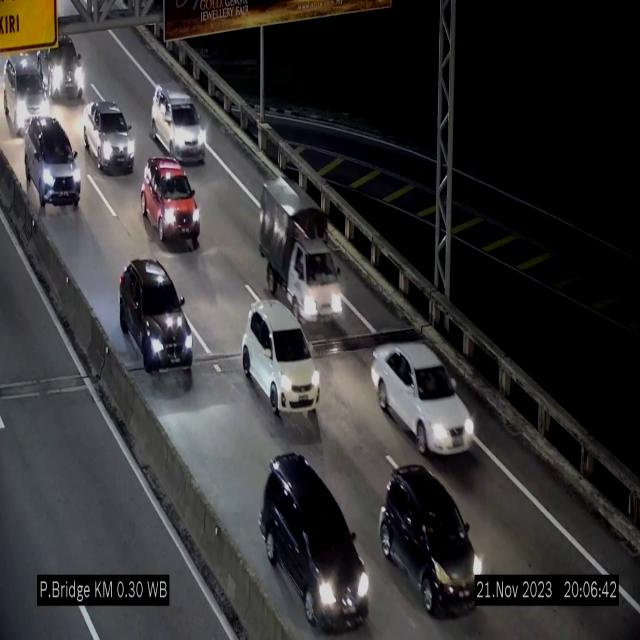Car: (268, 448, 376, 633), (380, 464, 478, 615), (372, 343, 480, 454), (120, 260, 194, 382), (243, 302, 320, 414), (23, 113, 85, 219), (142, 158, 200, 246), (1, 48, 57, 135), (152, 85, 206, 162), (84, 100, 135, 172), (39, 31, 86, 101)
Truck: (259, 178, 346, 330)
